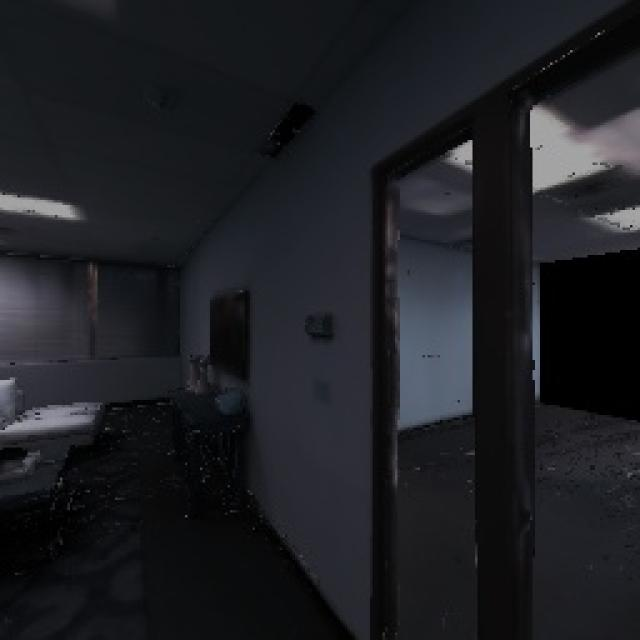door-frame: (343, 0, 640, 640)
